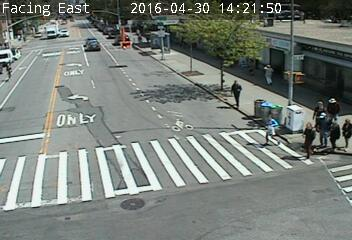neg: (312, 183, 345, 227), (72, 58, 101, 98), (8, 95, 35, 131), (189, 147, 216, 182), (147, 58, 171, 90), (69, 149, 93, 180), (143, 186, 164, 214), (157, 122, 176, 147), (197, 24, 215, 49), (130, 145, 147, 168), (129, 25, 146, 48), (244, 166, 255, 181)
pos: (294, 122, 321, 158), (260, 112, 286, 147), (219, 76, 243, 109), (311, 113, 335, 144), (331, 118, 351, 145), (312, 96, 332, 122), (326, 121, 346, 147), (326, 94, 342, 115)
